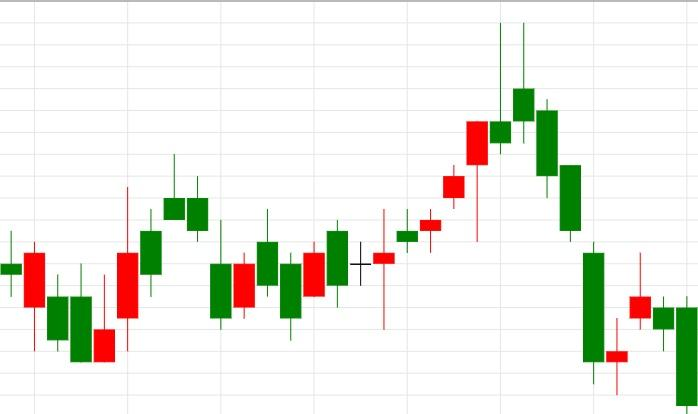shooting_star_fall: (70, 155, 186, 362)
